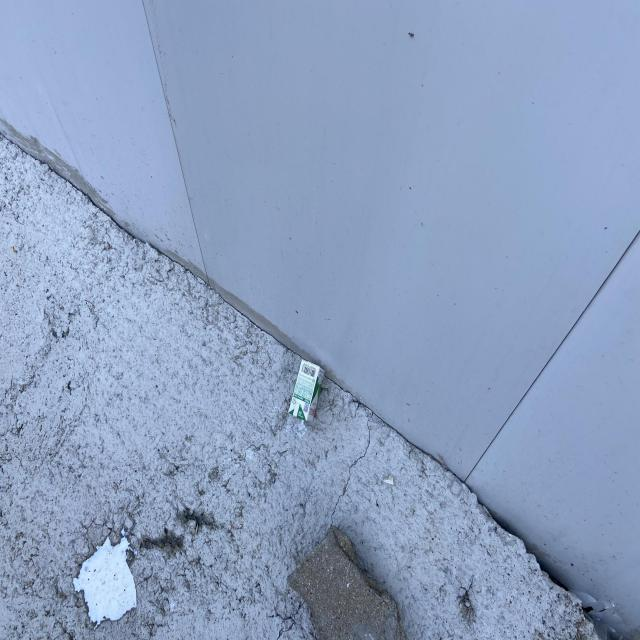paperpack: (288, 360, 325, 422)
